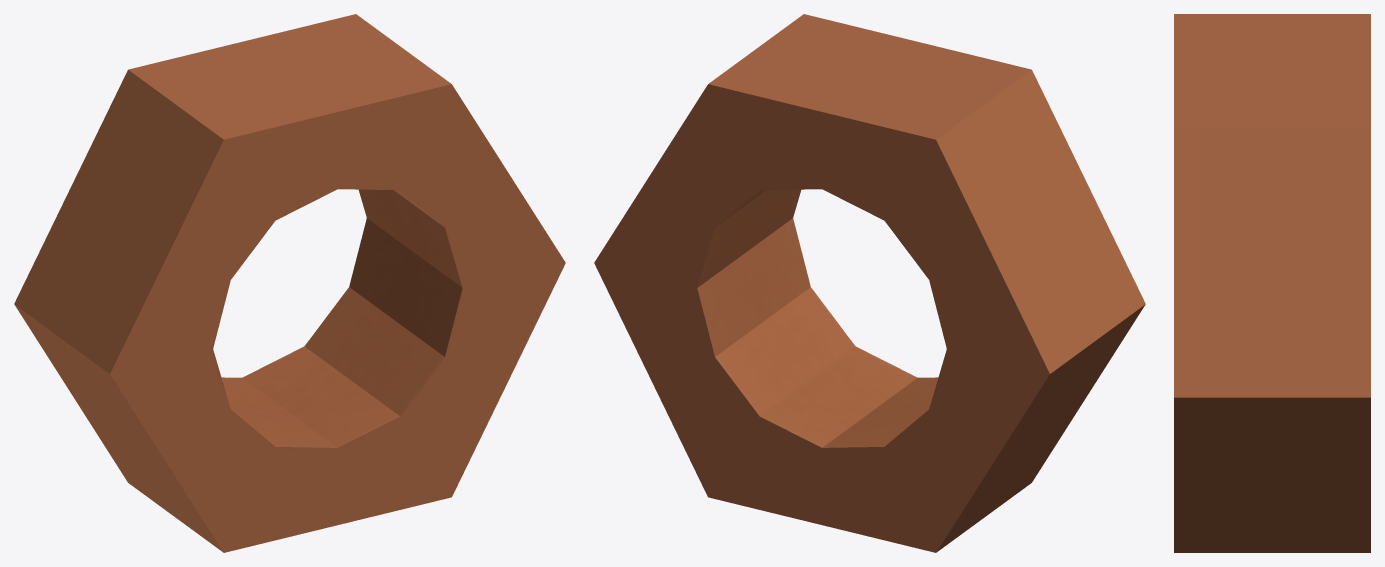
Rendered from nut.dae.
The picture shows the model from 3 angles, left to right: view 1: azimuth 30°, elevation 25°; view 2: azimuth 150°, elevation 25°; view 3: azimuth 270°, elevation 25°; orthographic projection. The views are drawn at different scales.
Parts seen in each view (by area): view 1: Circle; view 2: Circle; view 3: Circle.
Part boxes in pixels (bbox=[...]): Circle: bbox=[14, 14, 565, 552]; Circle: bbox=[594, 14, 1145, 552]; Circle: bbox=[1174, 14, 1370, 552].
Size of the model in its own units: 0.0507 by 0.0185 by 0.0439.
1 material, 1 textured.
